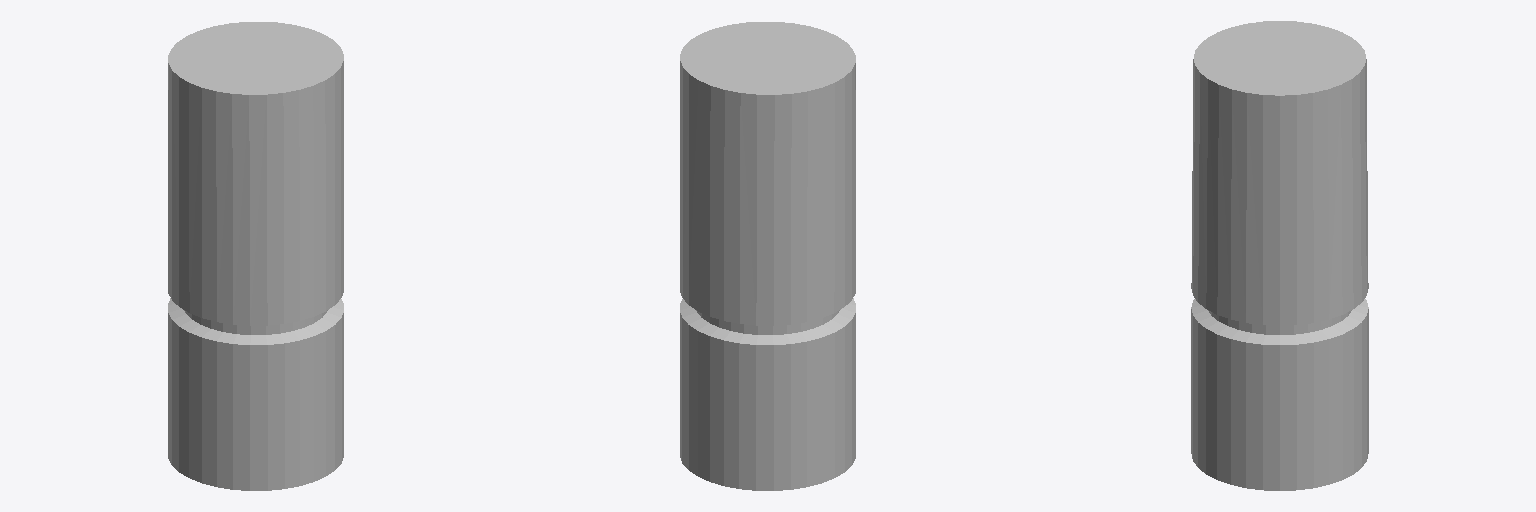
File: Dark_Round_Tall_Solid.obj
3 renders of one model, left to right at view 1: azimuth 30°, elevation 25°; view 2: azimuth 150°, elevation 25°; view 3: azimuth 270°, elevation 25°, orthographic.
Parts seen in each view (by area): view 1: Dark_Round_Tall_Solid; view 2: Dark_Round_Tall_Solid; view 3: Dark_Round_Tall_Solid.
Part boxes in pixels (left/top/right/bottom): Dark_Round_Tall_Solid: left=168, top=22, right=343, bottom=490; Dark_Round_Tall_Solid: left=680, top=22, right=855, bottom=490; Dark_Round_Tall_Solid: left=1191, top=21, right=1368, bottom=490.
Size of the model in its own units: 0.65 by 1.6 by 0.65.